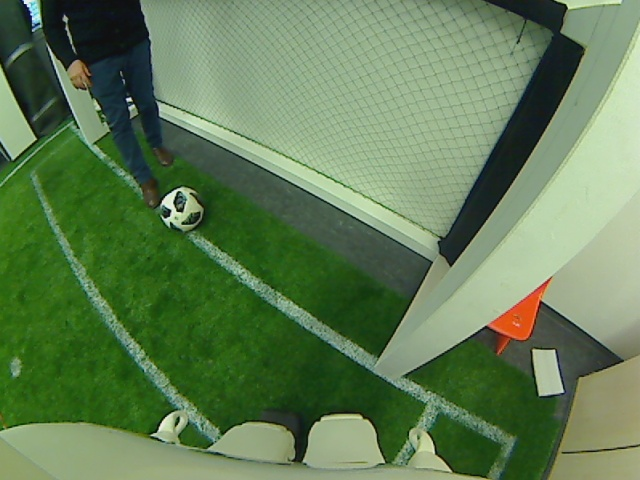ball: (153, 183, 203, 234)
